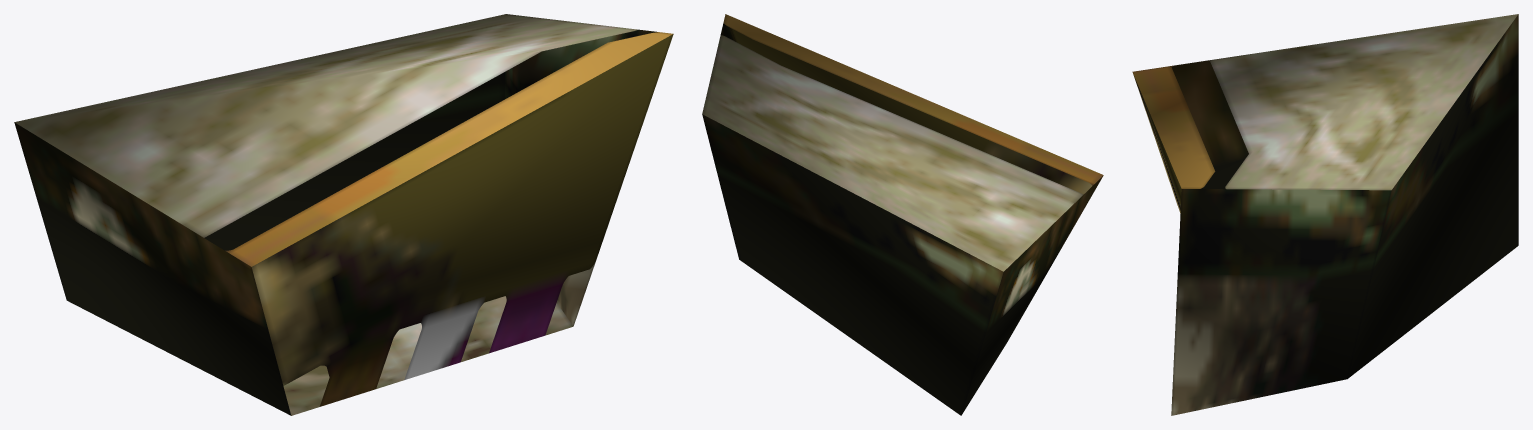
3 renders of one model, left to right at view 1: azimuth 30°, elevation 25°; view 2: azimuth 150°, elevation 25°; view 3: azimuth 270°, elevation 25°, orthographic. The views are drawn at different scales.
Parts seen in each view (by area): view 1: T1L6M002_13; view 2: T1L6M002_13; view 3: T1L6M002_13.
Boxes of the visible parts, bbox=[...] form: T1L6M002_13: bbox=[14, 14, 673, 415]; T1L6M002_13: bbox=[702, 14, 1103, 415]; T1L6M002_13: bbox=[1132, 14, 1518, 415].
Size of the model in its own units: 0.2334 by 0.1357 by 0.1455.
